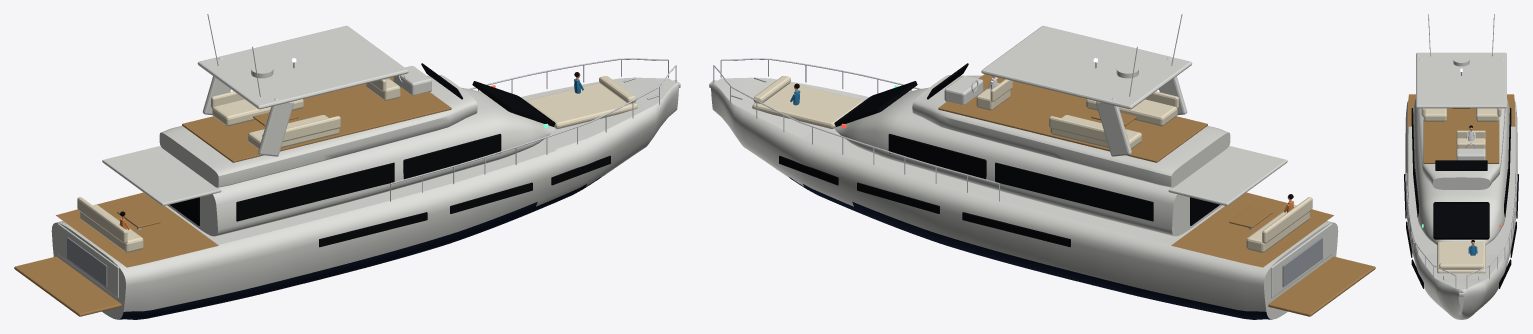
File: yacht.glb
3 renders of one model, left to right at view 1: azimuth 30°, elevation 25°; view 2: azimuth 150°, elevation 25°; view 3: azimuth 270°, elevation 25°, orthographic. The views are drawn at different scales.
Parts seen in each view (by area): view 1: hull; view 2: hull; view 3: hull.
Part boxes in pixels (x1=…): hull: x1=14, y1=14, x2=680, y2=319; hull: x1=709, y1=14, x2=1375, y2=319; hull: x1=1404, y1=14, x2=1518, y2=319.
Size of the model in its own units: 27.75 by 10.45 by 5.93.
